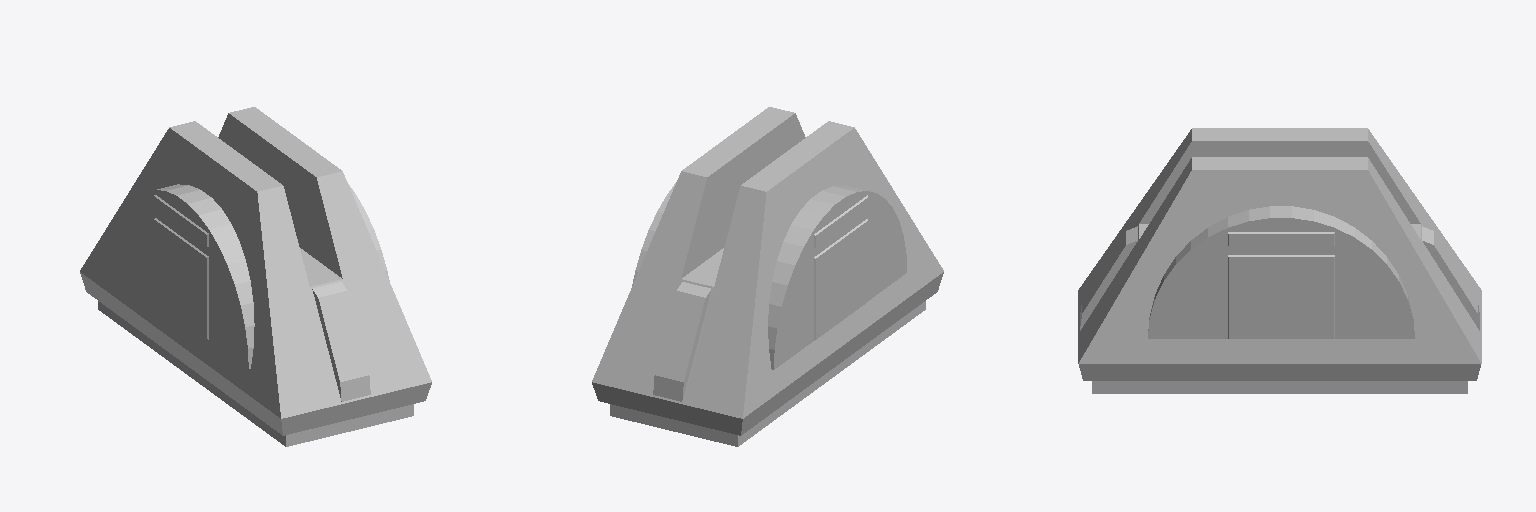
Rendered from Pata chica color 2.obj.
3 views of the same model, side by side, from view 1: azimuth 30°, elevation 25°; view 2: azimuth 150°, elevation 25°; view 3: azimuth 270°, elevation 25° (orthographic).
Parts seen in each view (by area): view 1: Pata_chica_2; view 2: Pata_chica_2; view 3: Pata_chica_2.
Boxes of the visible parts, <box> form: Pata_chica_2: <box>80,107,431,446</box>; Pata_chica_2: <box>592,107,943,446</box>; Pata_chica_2: <box>1078,128,1481,393</box>.
Bounding box in the file's own units: 1.09 × 1.48 × 2.52.